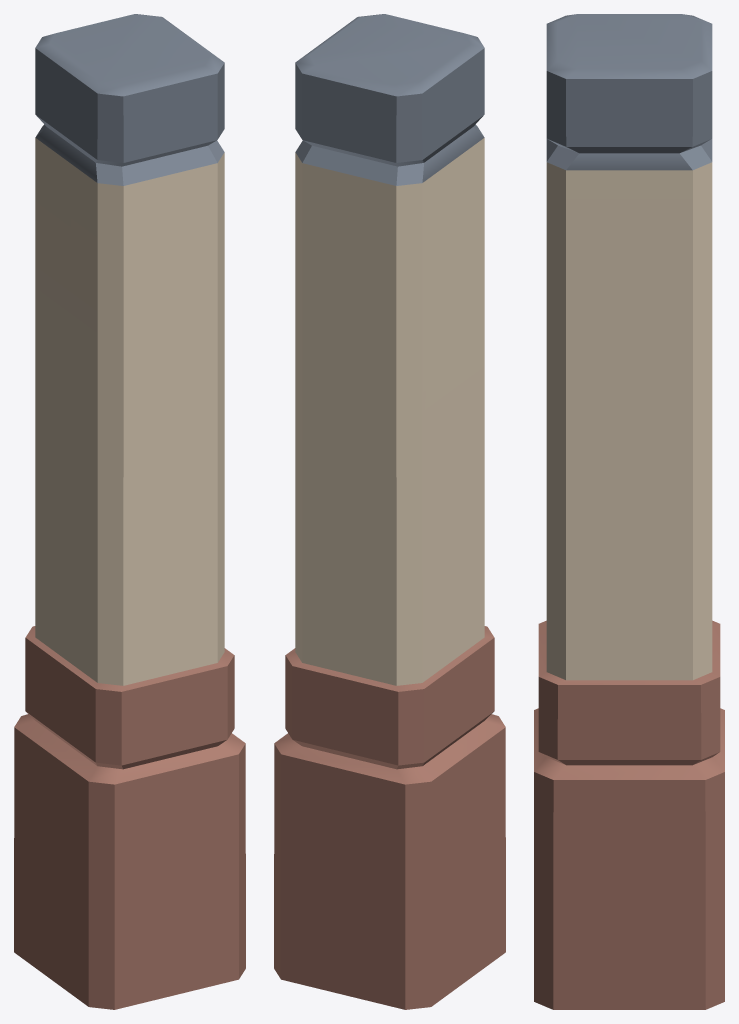
Rendered from g_t_OutsideWallEdge.fbx.
The picture shows the model from 3 angles, left to right: view 1: azimuth 30°, elevation 25°; view 2: azimuth 150°, elevation 25°; view 3: azimuth 270°, elevation 25°; orthographic projection. The views are drawn at different scales.
Parts seen in each view (by area): view 1: g_t_outsideedge; view 2: g_t_outsideedge; view 3: g_t_outsideedge.
Boxes of the visible parts, left/top/right/bottom form: g_t_outsideedge: left=14, top=14, right=245, bottom=1009; g_t_outsideedge: left=274, top=14, right=505, bottom=1009; g_t_outsideedge: left=534, top=14, right=724, bottom=1009.
Bounding box in the file's own units: 0.3589 × 1.99 × 0.3699.
